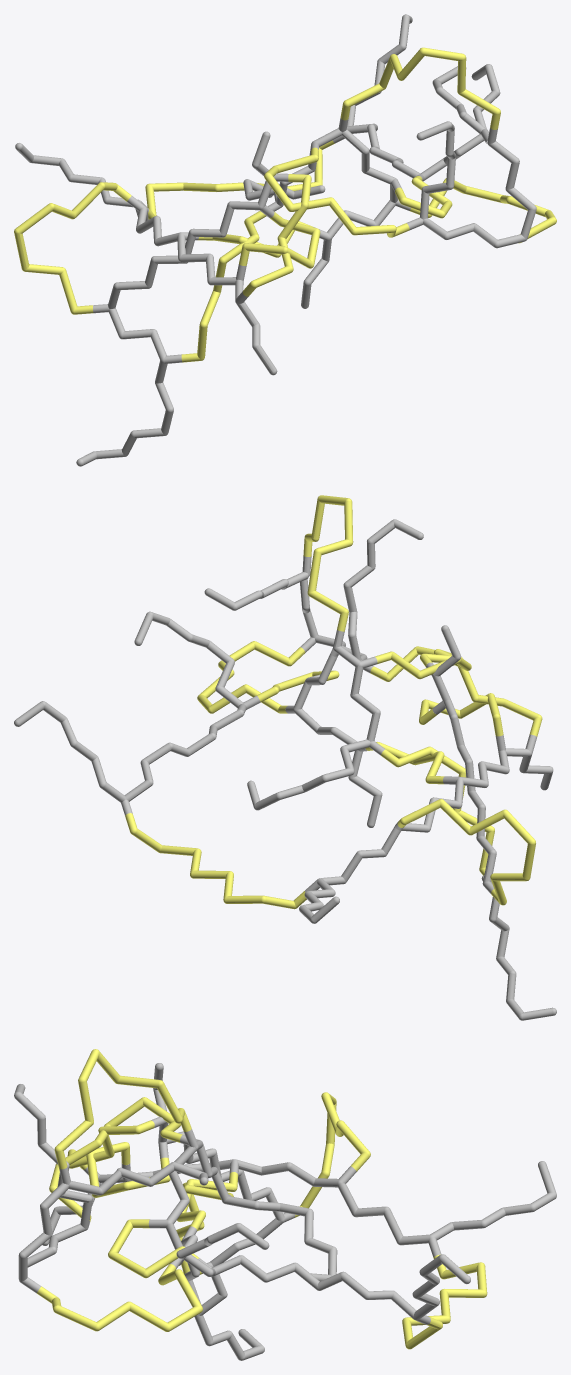
Rendered from Elastomer_Nudel_neu.gltf.
The picture shows the model from 3 angles, top to bottom: view 1: azimuth 30°, elevation 25°; view 2: azimuth 150°, elevation 25°; view 3: azimuth 270°, elevation 25°; orthographic projection. The views are drawn at different scales.
Visible parts, largest first — view 1: no part large enough to name; view 2: no part large enough to name; view 3: VCyl570, VCyl068.
Part boxes in pixels (bbox=[...]): VCyl570: bbox=[55, 1305, 97, 1330]; VCyl068: bbox=[129, 1302, 168, 1331].
Size of the model in its own units: 0.6601 by 0.5563 by 0.6281.
